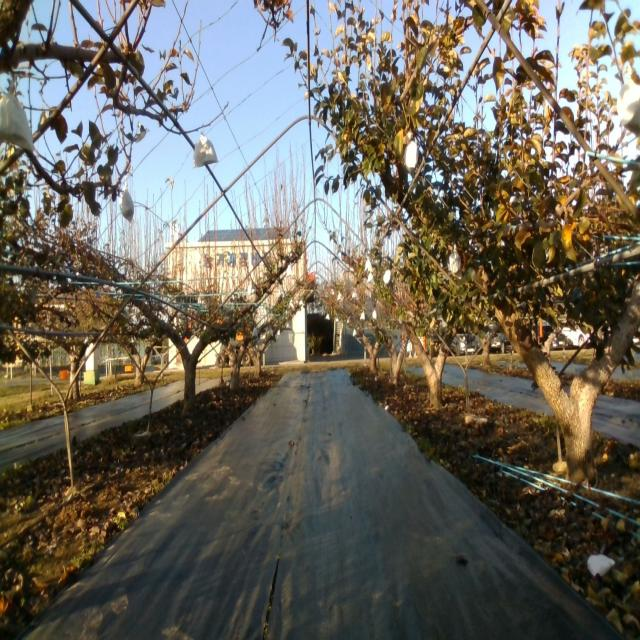pearbags: (0, 93, 34, 152), (617, 80, 640, 136), (190, 132, 218, 172), (120, 182, 134, 220), (405, 140, 418, 176), (448, 247, 462, 279)
